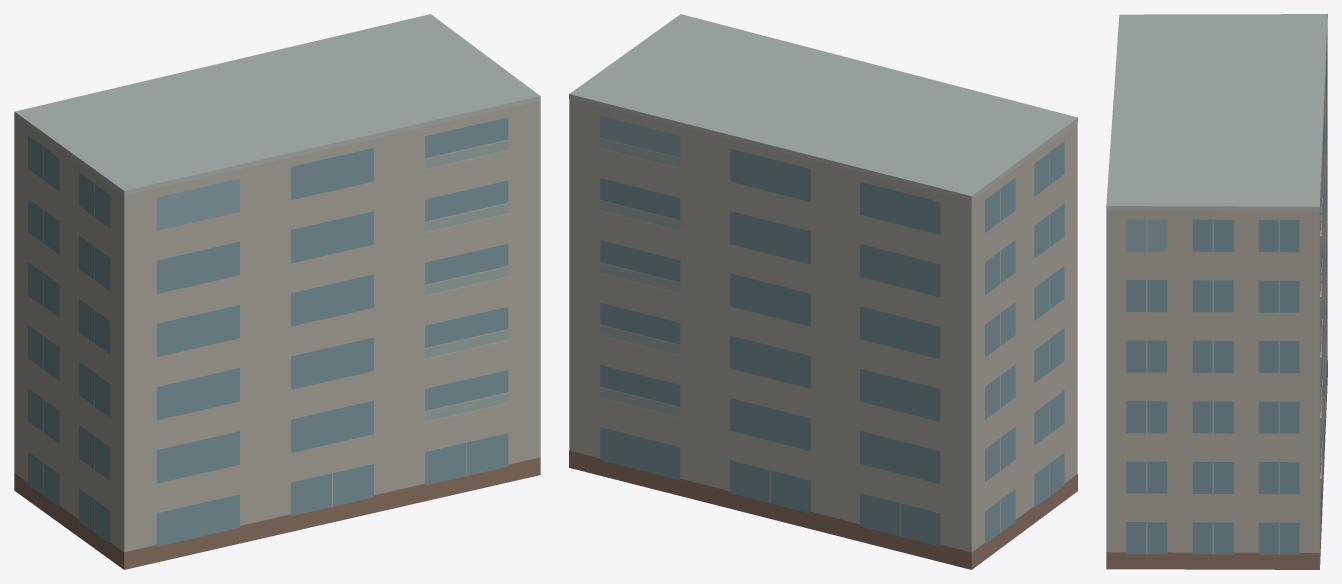
The model's file is survey-upis-32819602.glb.
3 views of the same model, side by side, from view 1: azimuth 30°, elevation 25°; view 2: azimuth 150°, elevation 25°; view 3: azimuth 270°, elevation 25° (orthographic). The views are drawn at different scales.
Visible parts, largest first — view 1: survey-upis-32819602.tmp; view 2: survey-upis-32819602.tmp; view 3: survey-upis-32819602.tmp.
Part boxes in pixels (bbox=[...]): survey-upis-32819602.tmp: bbox=[14, 14, 540, 569]; survey-upis-32819602.tmp: bbox=[569, 14, 1077, 569]; survey-upis-32819602.tmp: bbox=[1106, 14, 1327, 569].
Size of the model in its own units: 21.24 by 18.65 by 10.32.
